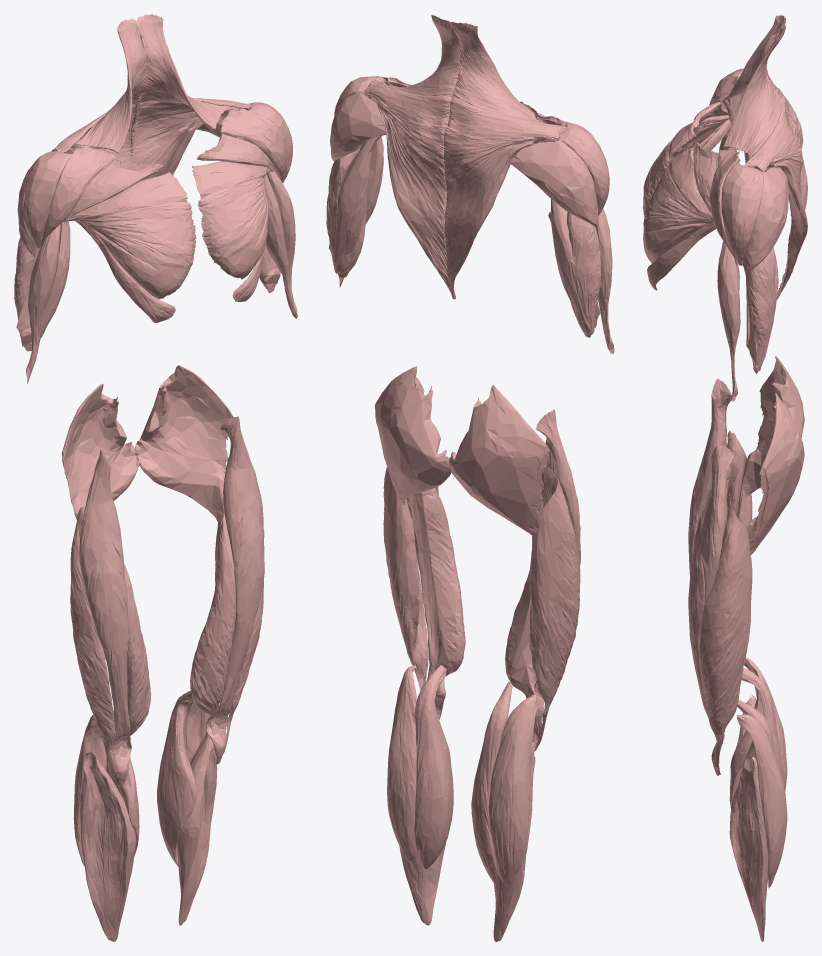
Rendered from anatomical-muscles.glb.
3 renders of one model, left to right at view 1: azimuth 30°, elevation 25°; view 2: azimuth 150°, elevation 25°; view 3: azimuth 270°, elevation 25°, orthographic. The views are drawn at different scales.
Visible parts, largest first — view 1: Left gluteus maximus, Sternocostal part of right pectoralis major, Right rectus femoris, Left rectus femoris, Right soleus, Sternocostal part of left pectoralis major, Right gluteus maximus, Left vastus medialis, Right vastus lateralis, Medial head of left gastrocnemius, Left soleus, Descending part of right trapezius (+22 smaller); view 2: Right gluteus maximus, Right vastus lateralis, Ascending part of left trapezius, Ascending part of right trapezius, Left gluteus maximus, Lateral head of right gastrocnemius, Medial head of left gastrocnemius, Left vastus lateralis, Left vastus medialis, Lateral head of left gastrocnemius, Spinal part of right deltoid, Descending part of right trapezius (+17 smaller); view 3: Left vastus lateralis, Sternocostal part of left pectoralis major, Left rectus femoris, Left soleus, Left gluteus maximus, Lateral head of left gastrocnemius, Descending part of left trapezius, Acromial part of left deltoid, Right gluteus maximus, Spinal part of left deltoid, Right rectus femoris, Lateral head of left triceps brachii (+16 smaller).
Part boxes in pixels (x1,y1,x2,y2): Left gluteus maximus: (135, 365, 233, 523); Sternocostal part of right pectoralis major: (63, 172, 196, 299); Right rectus femoris: (79, 449, 131, 787); Left rectus femoris: (205, 416, 264, 764); Right soleus: (79, 751, 136, 941); Sternocostal part of left pectoralis major: (192, 161, 270, 279); Right gluteus maximus: (61, 383, 139, 519); Left vastus medialis: (190, 497, 236, 735); Right vastus lateralis: (70, 505, 119, 785); Medial head of left gastrocnemius: (157, 691, 196, 866); Left soleus: (176, 728, 217, 925); Descending part of right trapezius: (76, 18, 147, 153); Right gluteus maximus: (449, 384, 549, 536); Right vastus lateralis: (529, 466, 580, 751); Ascending part of left trapezius: (375, 98, 455, 299); Ascending part of right trapezius: (443, 125, 546, 298); Left gluteus maximus: (374, 366, 451, 505); Lateral head of right gastrocnemius: (488, 694, 537, 885); Medial head of left gastrocnemius: (414, 665, 453, 869); Left vastus lateralis: (383, 467, 428, 690); Left vastus medialis: (419, 488, 465, 707); Lateral head of left gastrocnemius: (387, 665, 416, 861); Spinal part of right deltoid: (510, 140, 598, 229); Descending part of right trapezius: (451, 21, 545, 123); Left vastus lateralis: (698, 494, 752, 774); Sternocostal part of left pectoralis major: (643, 147, 714, 263); Left rectus femoris: (688, 445, 734, 775); Left soleus: (729, 755, 768, 941); Left gluteus maximus: (747, 392, 804, 554); Lateral head of left gastrocnemius: (737, 714, 787, 888); Descending part of left trapezius: (723, 25, 785, 155); Acromial part of left deltoid: (721, 163, 763, 265); Right gluteus maximus: (738, 356, 804, 504); Spinal part of left deltoid: (742, 167, 789, 276); Right rectus femoris: (688, 378, 731, 576); Lateral head of left triceps brachii: (747, 248, 777, 371).
Bounding box in the file's own units: 0.9192 × 2.95 × 0.4878.
